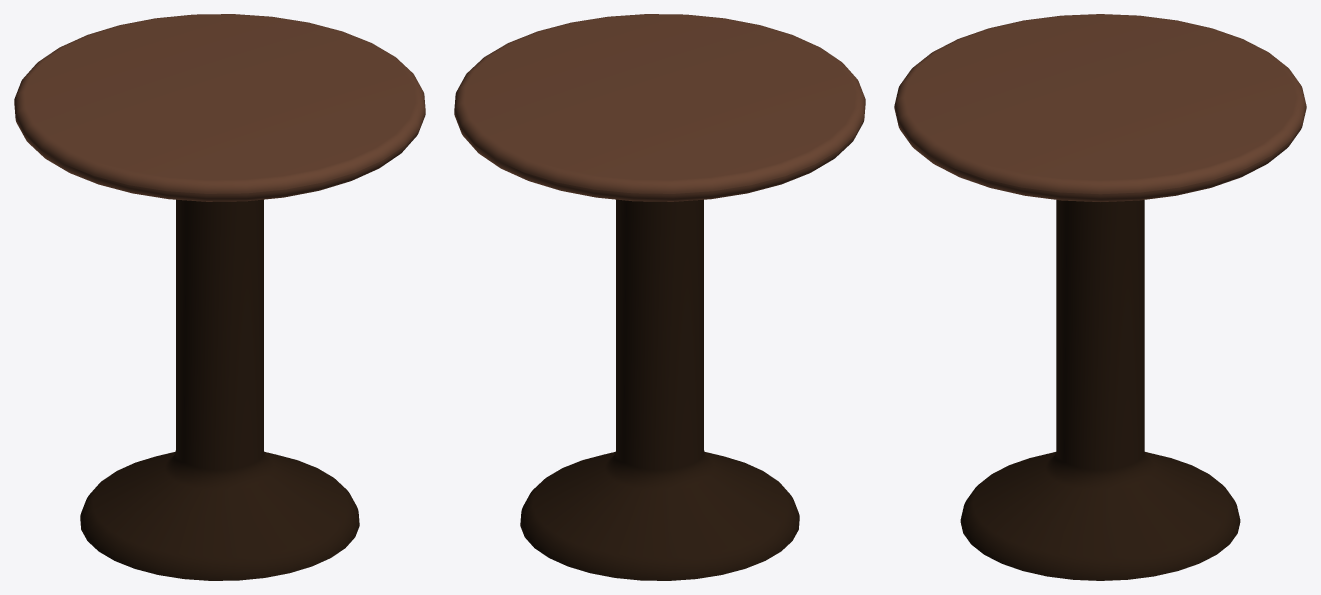
Rendered from cofeeTable.fbx.
3 renders of one model, left to right at view 1: azimuth 30°, elevation 25°; view 2: azimuth 150°, elevation 25°; view 3: azimuth 270°, elevation 25°, orthographic.
Visible parts, largest first — view 1: CoffeeTable; view 2: CoffeeTable; view 3: CoffeeTable.
Boxes of the visible parts, x1,y1,x2,y2 form: CoffeeTable: (14,14,425,580); CoffeeTable: (454,14,865,580); CoffeeTable: (894,14,1306,580).
Bounding box in the file's own units: 247 × 280 × 247.
